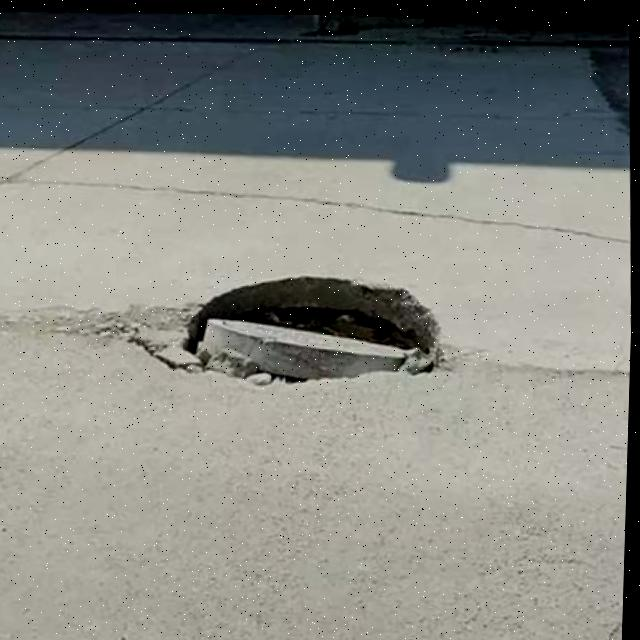manhole: (173, 260, 449, 391)
